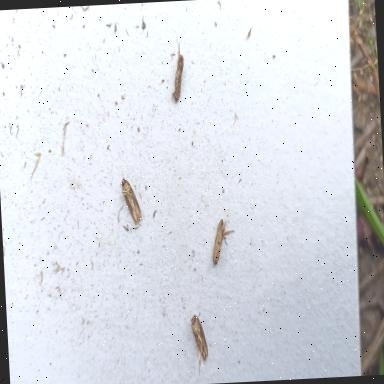pbw: (190, 311, 208, 377), (168, 37, 186, 101), (121, 172, 142, 226), (210, 217, 228, 265)
